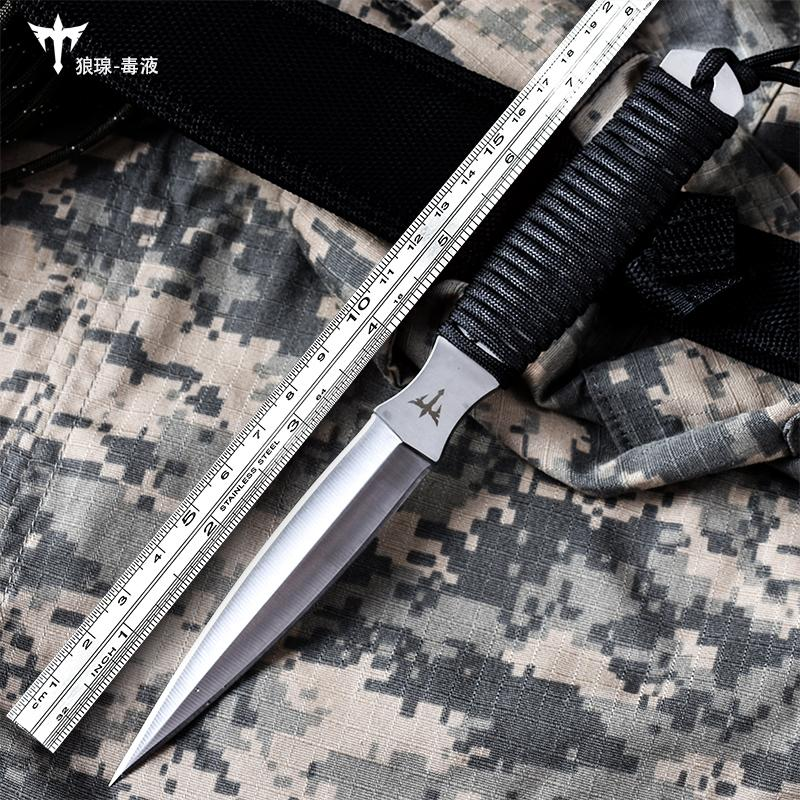knife: (95, 54, 737, 800)
